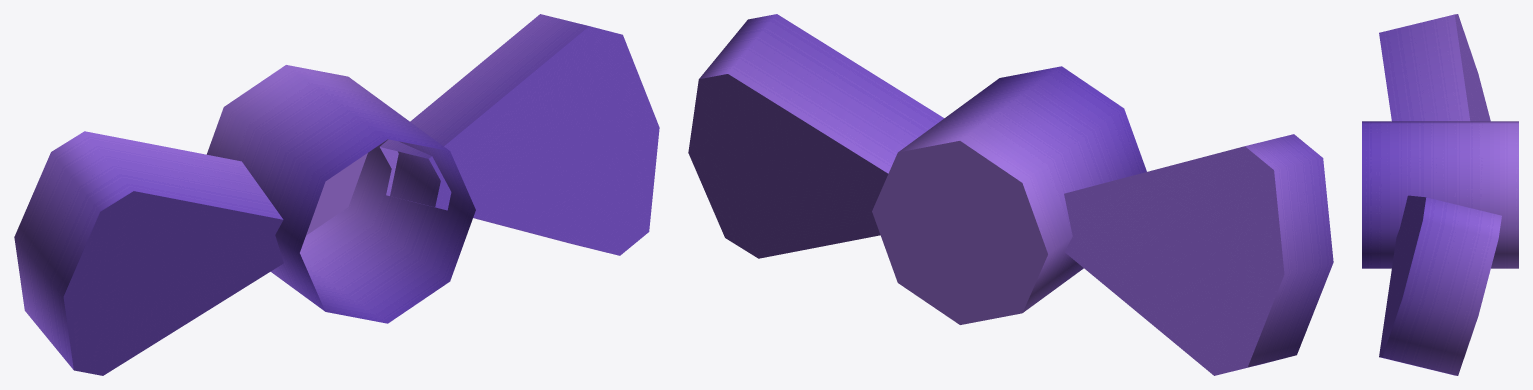
File: fan-alt-col_003.glb
3 views of the same model, side by side, from view 1: azimuth 30°, elevation 25°; view 2: azimuth 150°, elevation 25°; view 3: azimuth 270°, elevation 25° (orthographic). The views are drawn at different scales.
Parts seen in each view (by area): view 1: fan-alt-col.003; view 2: fan-alt-col.003; view 3: fan-alt-col.003.
Part boxes in pixels (x1,y1,x2,y2): fan-alt-col.003: [14, 14, 659, 375]; fan-alt-col.003: [688, 14, 1333, 375]; fan-alt-col.003: [1362, 14, 1518, 375].
Size of the model in its own units: 0.6765 by 0.2507 by 0.2.
1 material, 1 textured.
